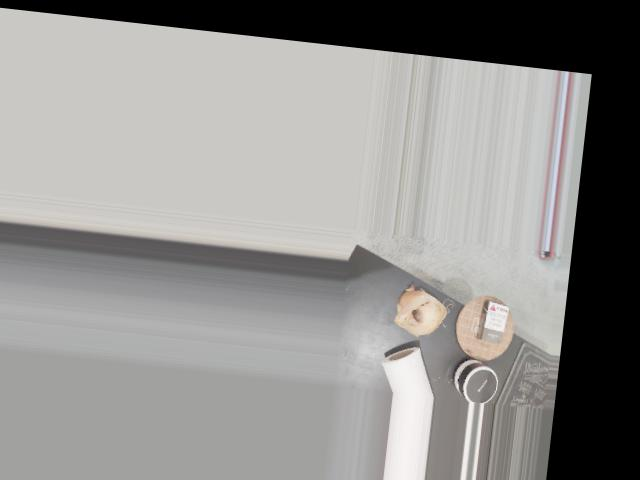onion: (390, 282, 451, 340)
